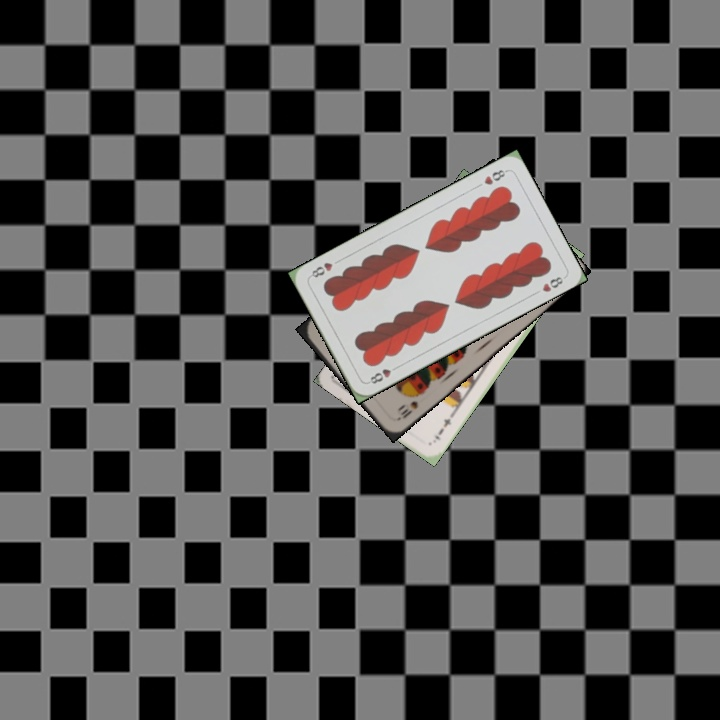E7: (430, 410, 456, 443)
H8: (364, 361, 401, 387), (480, 165, 510, 188)
S10: (397, 397, 421, 421)
